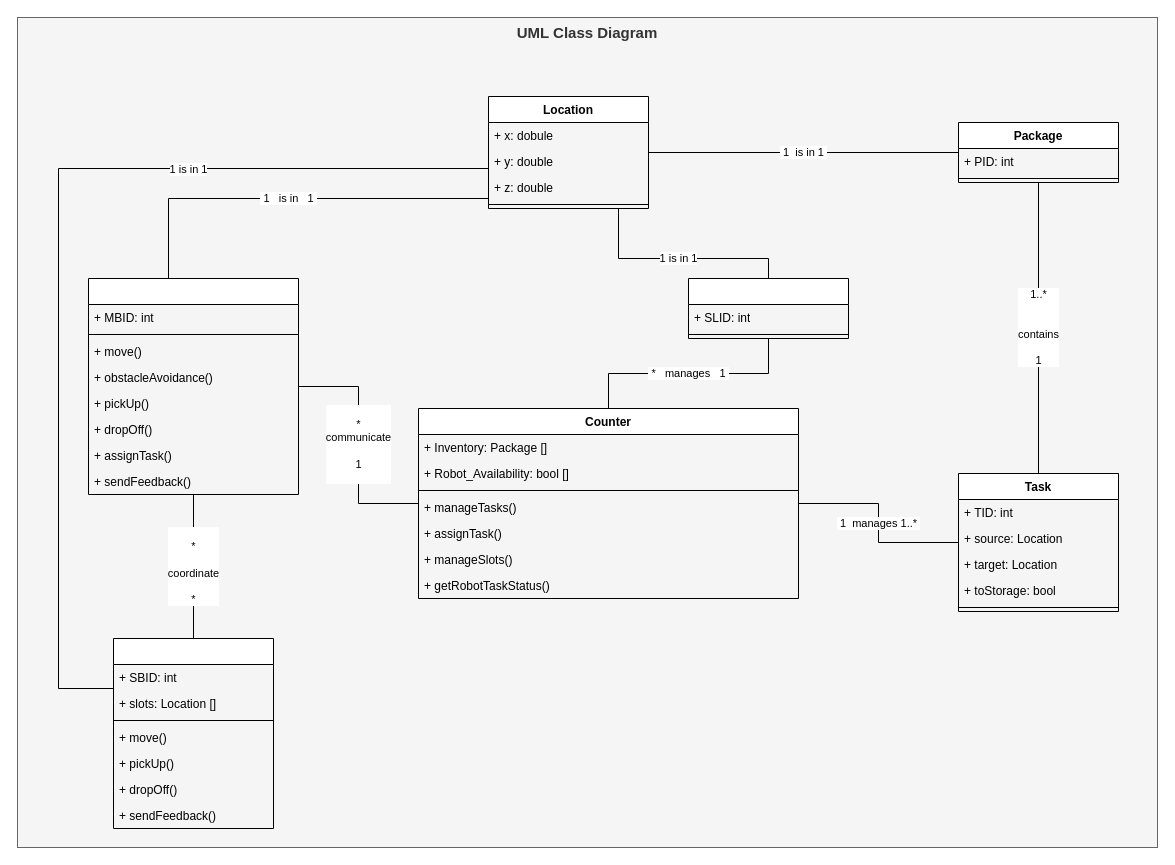
This 1175x865 diagram has some shape labels left out. The shapes that lost their labels are listed below. From the top down, each one's box as (x1, y1, x2, y2) in pixels, then its label:
(688, 278, 848, 338): Counter_Slot
(88, 278, 298, 494): MoverBot
(112, 638, 274, 828): ShelfBot
